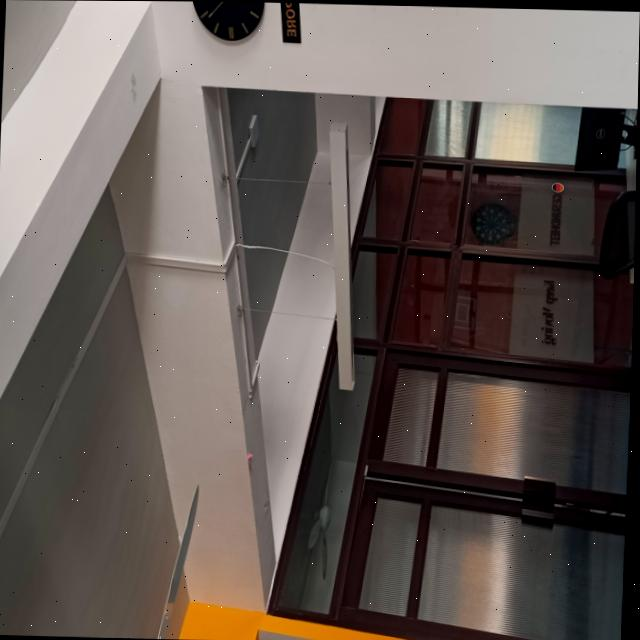light_off: (316, 112, 370, 392)
